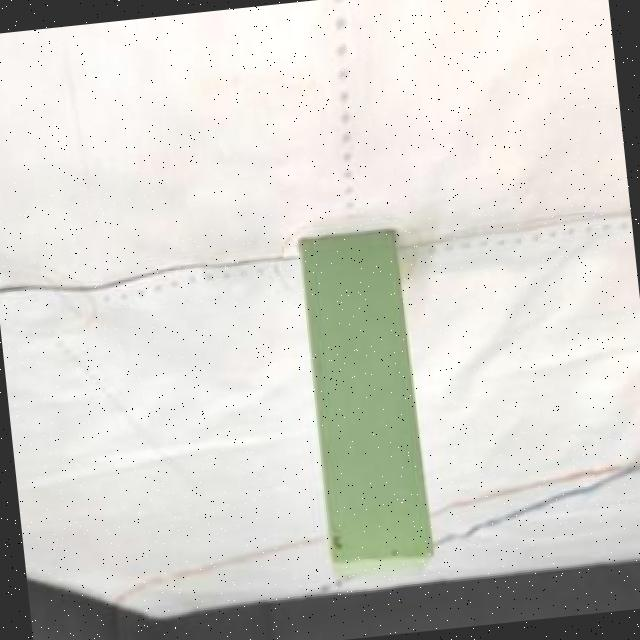greenbox: (298, 228, 432, 582)
